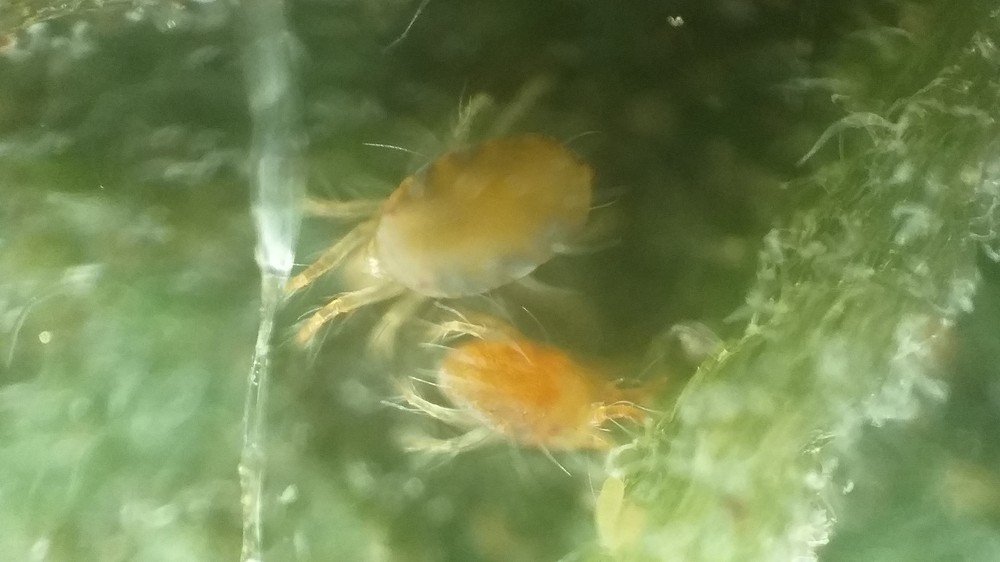Aracnido Rojo: (255, 101, 680, 352), (401, 309, 716, 487)
